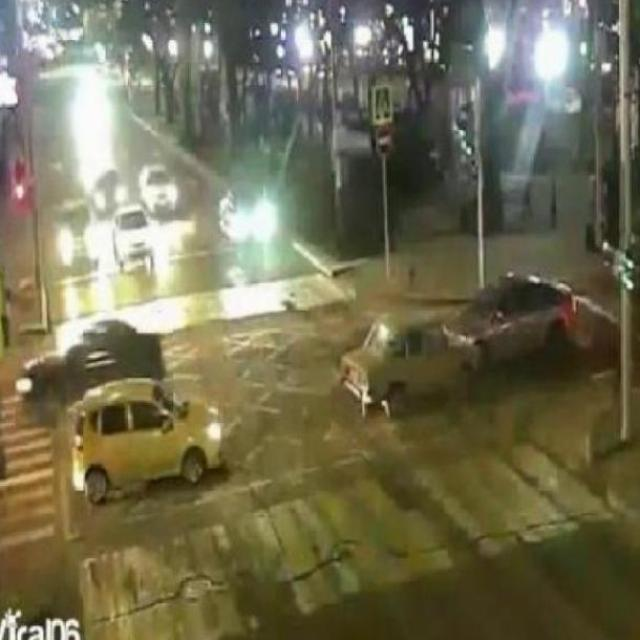accident: (340, 268, 588, 408)
